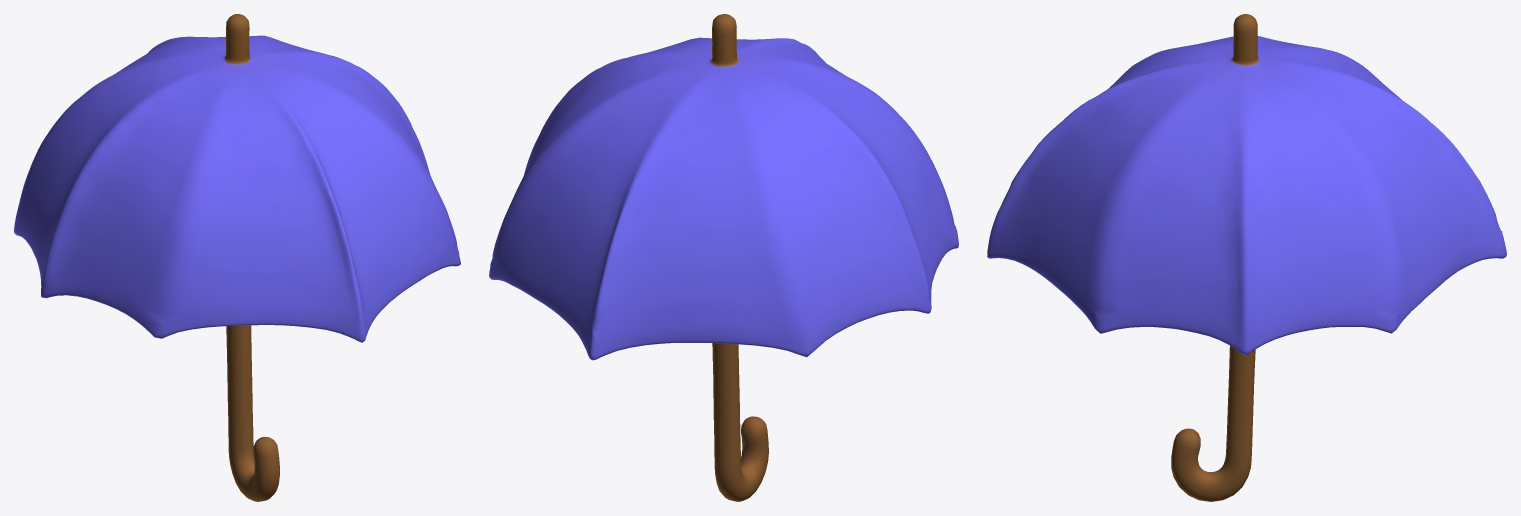
File: umbrella-transformed.glb
3 renders of one model, left to right at view 1: azimuth 30°, elevation 25°; view 2: azimuth 150°, elevation 25°; view 3: azimuth 270°, elevation 25°, orthographic. The views are drawn at different scales.
Parts seen in each view (by area): view 1: umbrella; view 2: umbrella; view 3: umbrella.
Boxes of the visible parts, box(x1,y1,x2,y2) form: umbrella: box(14, 14, 460, 501); umbrella: box(489, 14, 958, 501); umbrella: box(987, 14, 1506, 501).
Bounding box in the file's own units: 1.64 × 1.88 × 1.82.
Materials: 1 (1 with a texture image).
